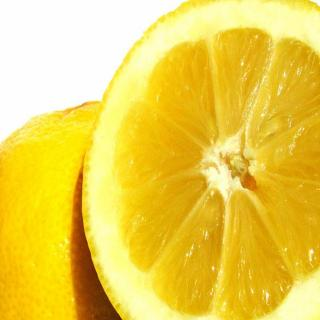Lemon: (79, 0, 320, 320), (2, 101, 118, 318)
